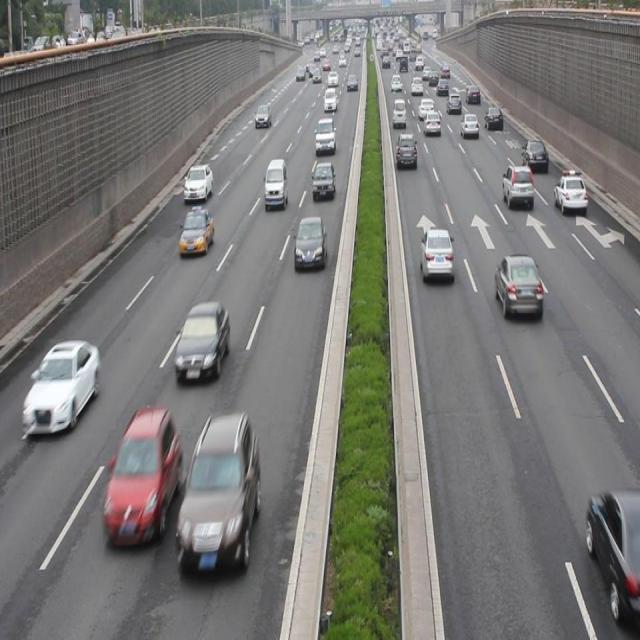car: (175, 412, 260, 572), (102, 406, 180, 545), (586, 489, 640, 624), (24, 338, 99, 434), (173, 300, 230, 381), (494, 253, 543, 318), (178, 206, 214, 257), (294, 215, 326, 272), (419, 227, 452, 280), (553, 170, 586, 212), (502, 164, 532, 208), (184, 161, 213, 203), (520, 137, 547, 174), (395, 131, 417, 172), (312, 161, 334, 202), (314, 118, 336, 156), (460, 111, 479, 139), (484, 105, 503, 132), (254, 102, 271, 130), (423, 111, 441, 134)
truck: (264, 157, 288, 212)
